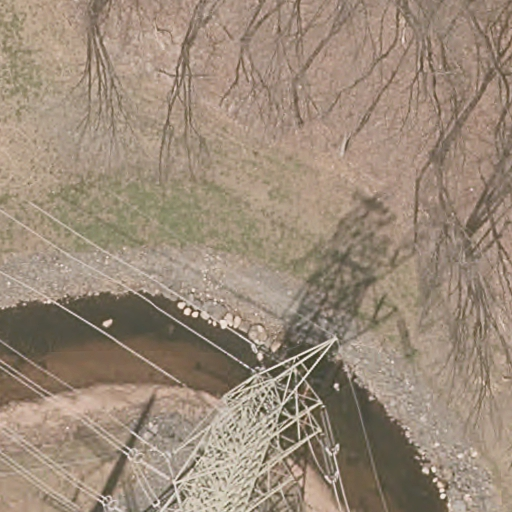TT: (130, 334, 340, 512)
